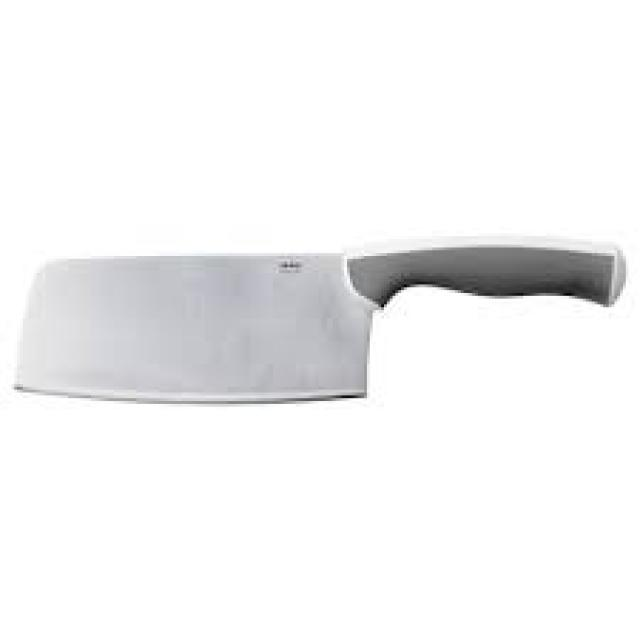Knife: (14, 236, 626, 404)
